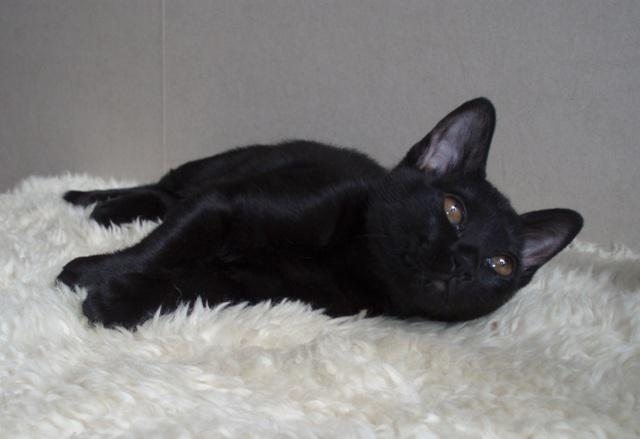cat: (56, 97, 584, 328)
